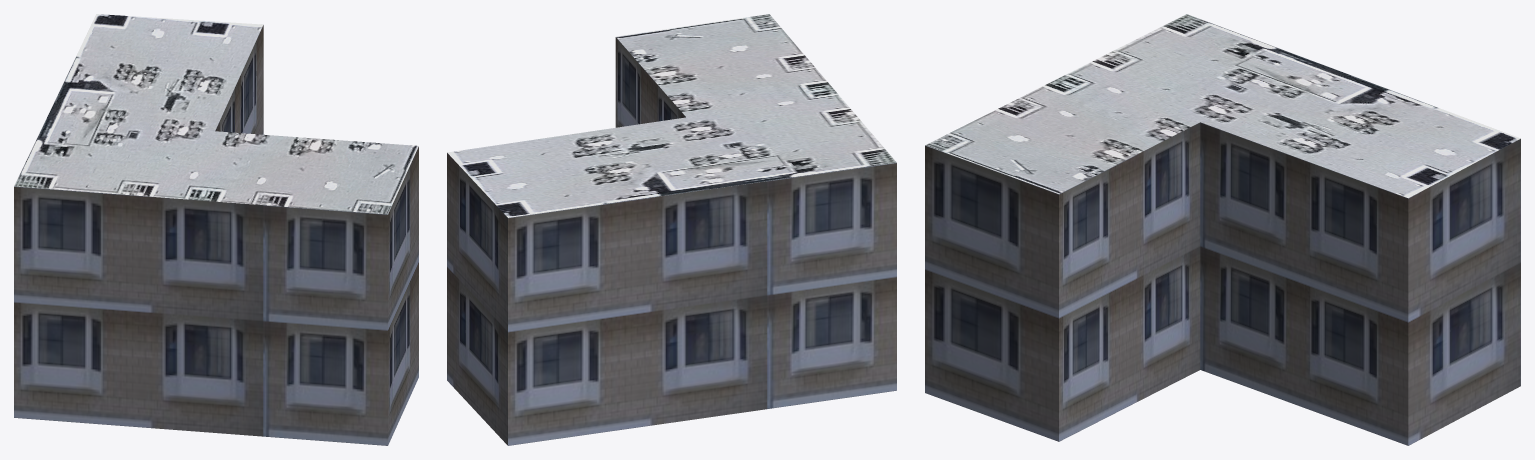
The model's file is ResTex__1349.fbx.
3 views of the same model, side by side, from view 1: azimuth 30°, elevation 25°; view 2: azimuth 150°, elevation 25°; view 3: azimuth 270°, elevation 25° (orthographic). The views are drawn at different scales.
Visible parts, largest first — view 1: CityEngineMaterial_3_m, CityEngineMaterial_4_m; view 2: CityEngineMaterial_3_m, CityEngineMaterial_4_m; view 3: CityEngineMaterial_3_m, CityEngineMaterial_4_m.
Part boxes in pixels (left/top/right/bottom): CityEngineMaterial_3_m: left=14, top=25, right=418, bottom=445; CityEngineMaterial_4_m: left=14, top=14, right=418, bottom=214; CityEngineMaterial_3_m: left=447, top=37, right=896, bottom=445; CityEngineMaterial_4_m: left=447, top=14, right=896, bottom=217; CityEngineMaterial_3_m: left=925, top=122, right=1520, bottom=445; CityEngineMaterial_4_m: left=925, top=14, right=1520, bottom=198.
Bounding box in the file's own units: 9.58 × 6 × 13.09.
Materials: 2 (2 with a texture image).
